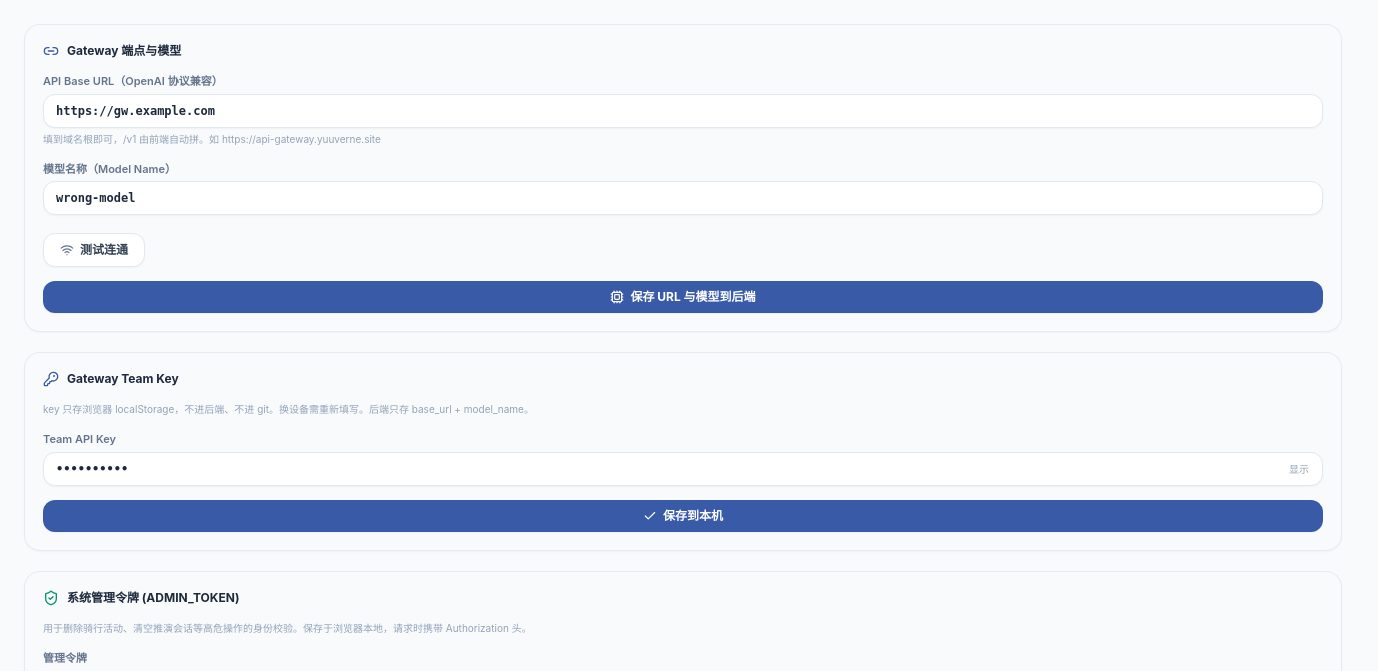
AIGatewayConfigTab AI 接入配置 › 测试连通成功但模型不在列表：报错并提示
Click the button "测试连通" at (94, 250), box [43,233,145,267]
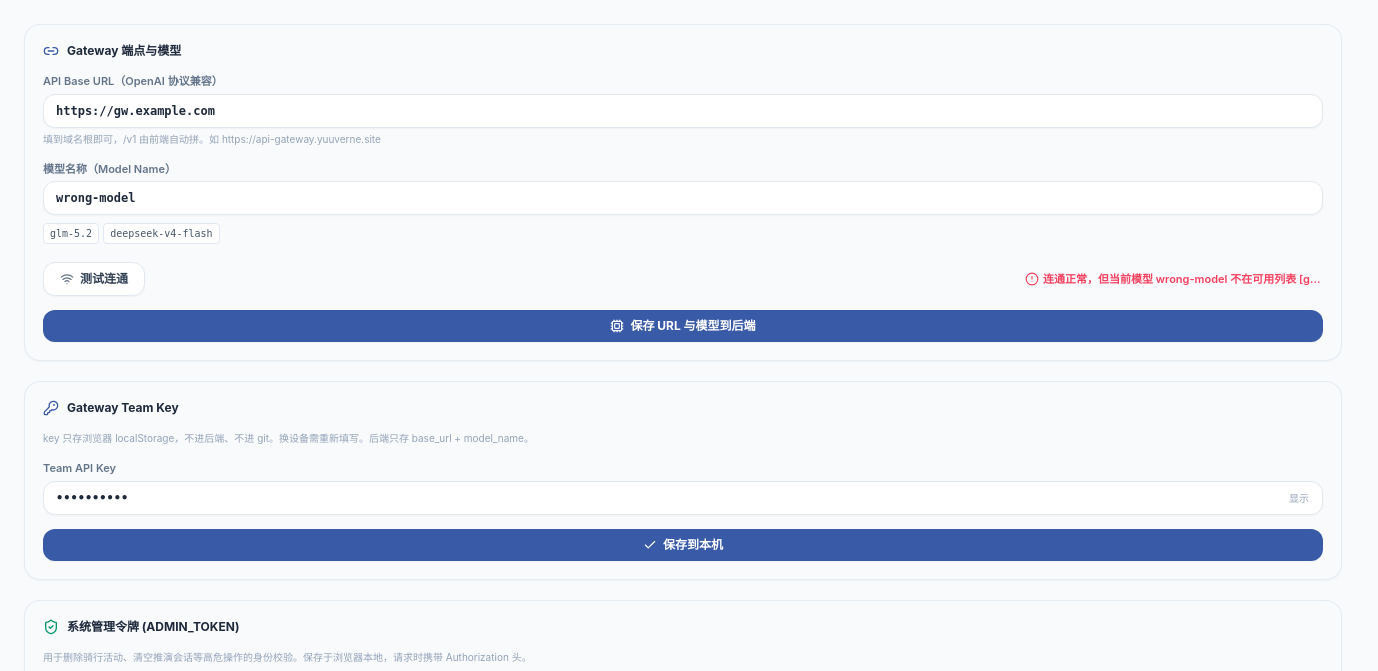
Check: the text "不在可用列表" is shown, box [1043,272,1366,286]
